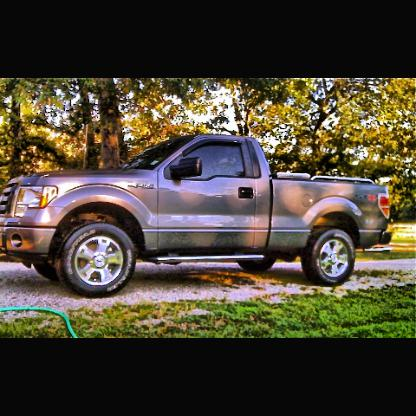Ford F-150 Regular Cab 2012: (2, 135, 395, 297)
